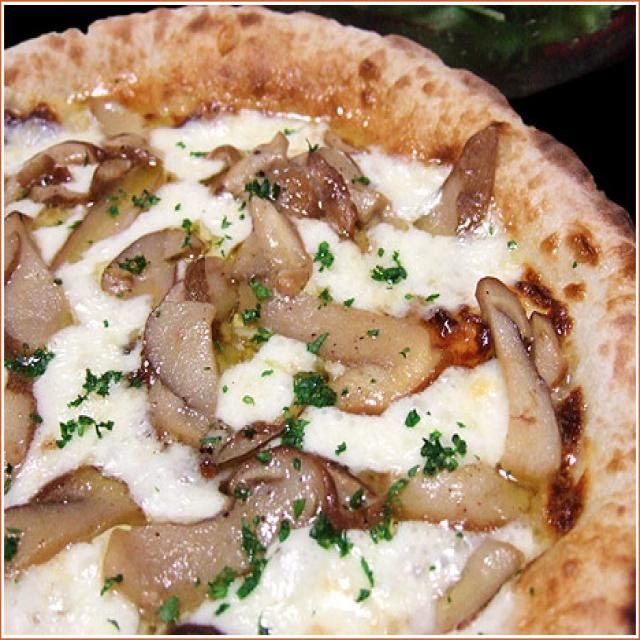汉堡快餐: (11, 13, 621, 617)
